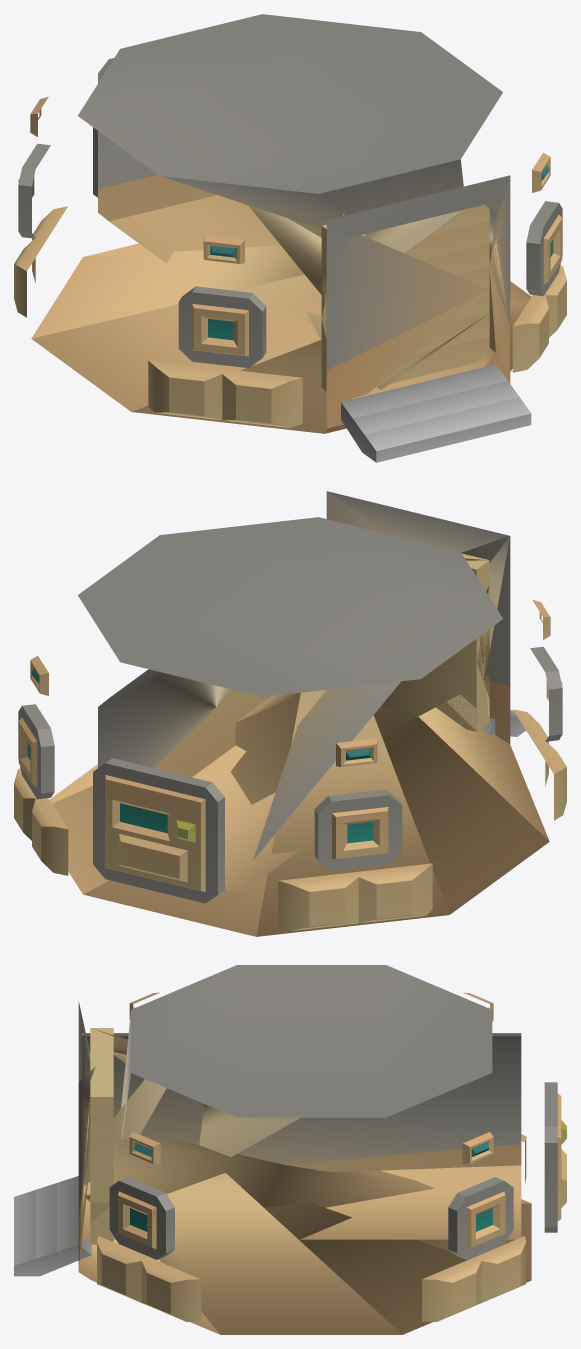
The model's file is reactor.glb.
3 views of the same model, one above another, from view 1: azimuth 30°, elevation 25°; view 2: azimuth 150°, elevation 25°; view 3: azimuth 270°, elevation 25° (orthographic). The views are drawn at different scales.
Size of the model in its own units: 1.89 by 0.95 by 2.37.
